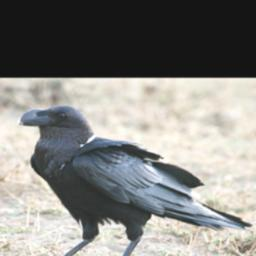Crow: (15, 105, 252, 256)
